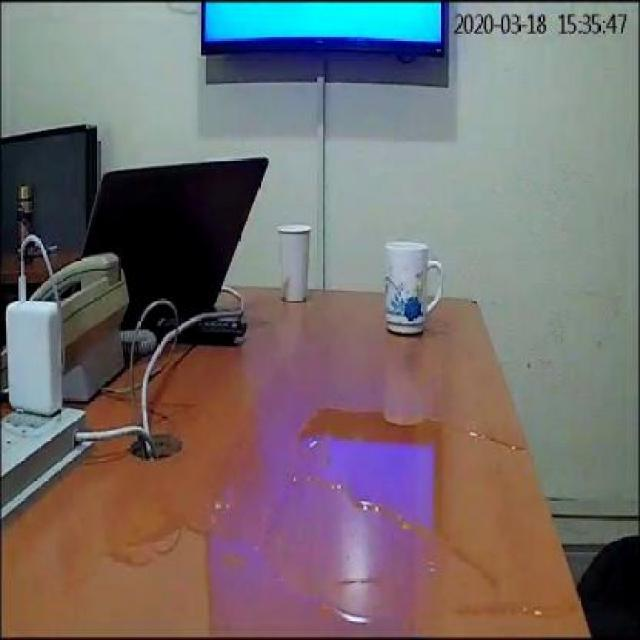spill: (300, 398, 568, 620), (120, 464, 322, 554)
